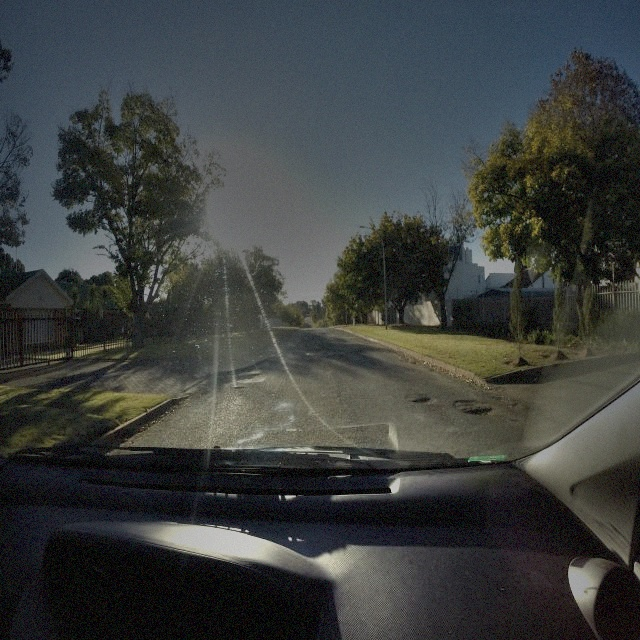pothole: (454, 399, 493, 417), (408, 394, 437, 406), (462, 408, 496, 418), (232, 385, 244, 392)
